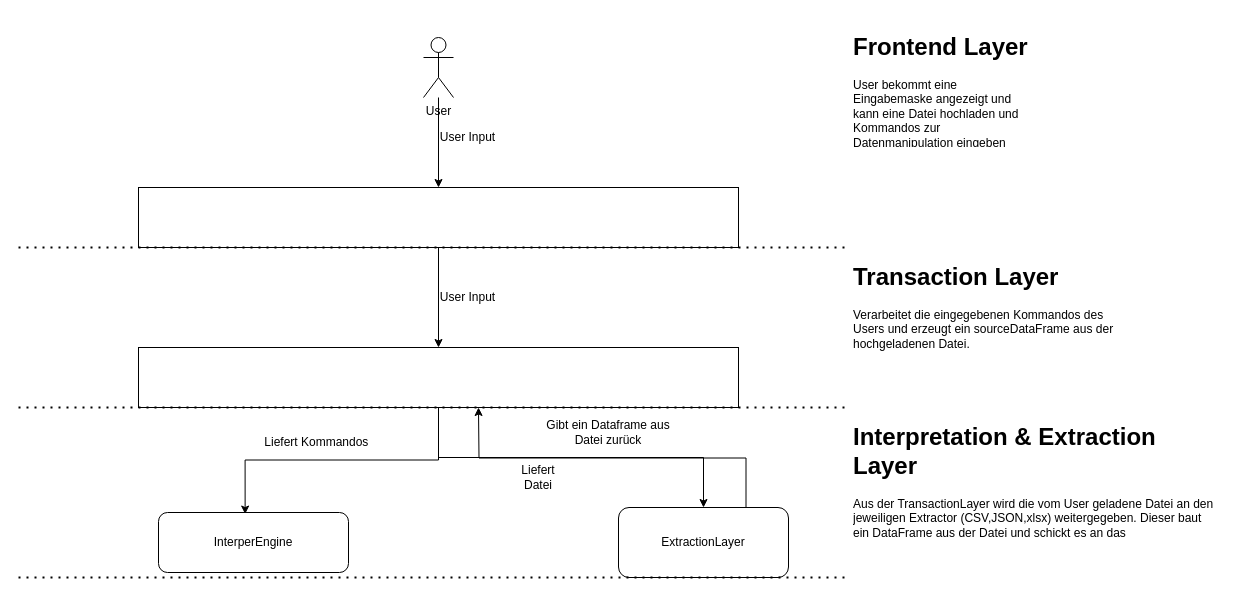
Some shapes in this 1235 by 596 pixel diagram are drawn without their labels. Here are the shapes that lost their labels. From the top down, the centre of each, then its label:
At [438,217]: "UI".
At [438,377]: "TransactionLayer".
